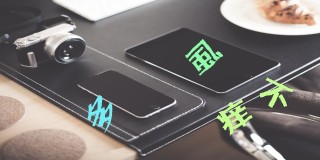不: (259, 76, 292, 107)
多: (87, 95, 113, 133)
痒: (217, 99, 252, 135)
虱: (183, 38, 223, 76)
